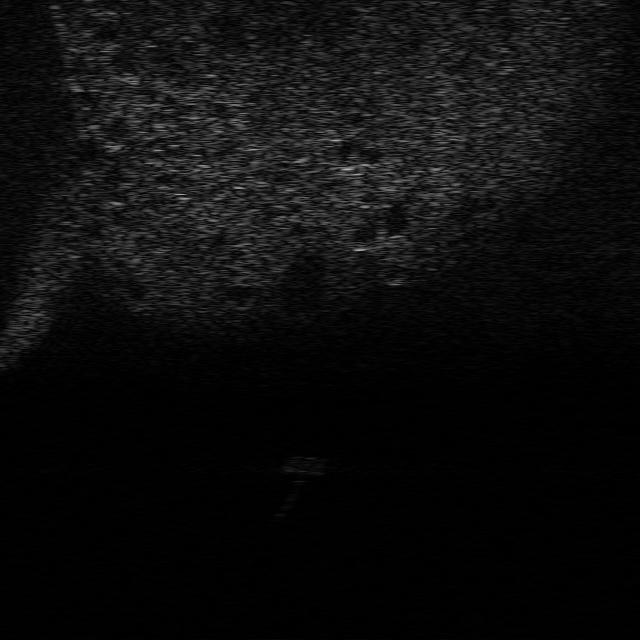cube: (284, 454, 328, 476)
